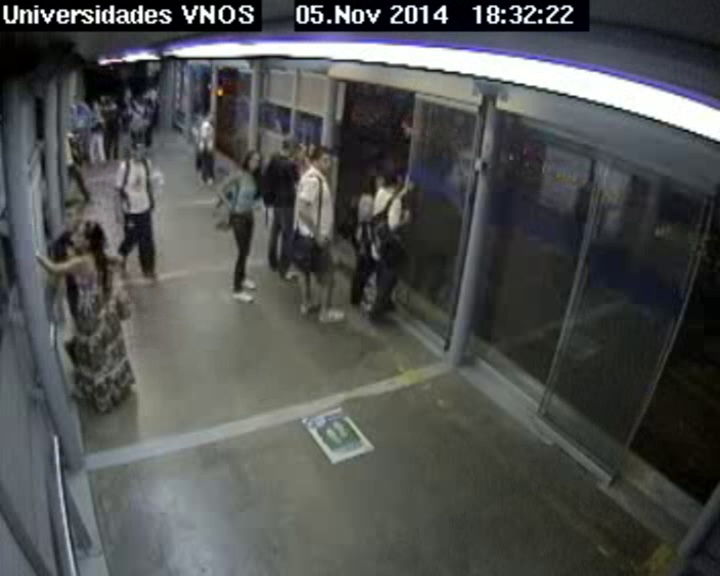person: (70, 217, 102, 252), (59, 201, 84, 231), (310, 147, 333, 173), (244, 150, 263, 172), (364, 172, 383, 194), (131, 141, 148, 159), (385, 172, 401, 191), (277, 141, 292, 156), (293, 144, 307, 159), (103, 96, 113, 107), (205, 111, 215, 122), (192, 104, 202, 115), (96, 95, 105, 105), (134, 89, 143, 99), (66, 122, 74, 132), (125, 89, 132, 97), (147, 83, 153, 90)
